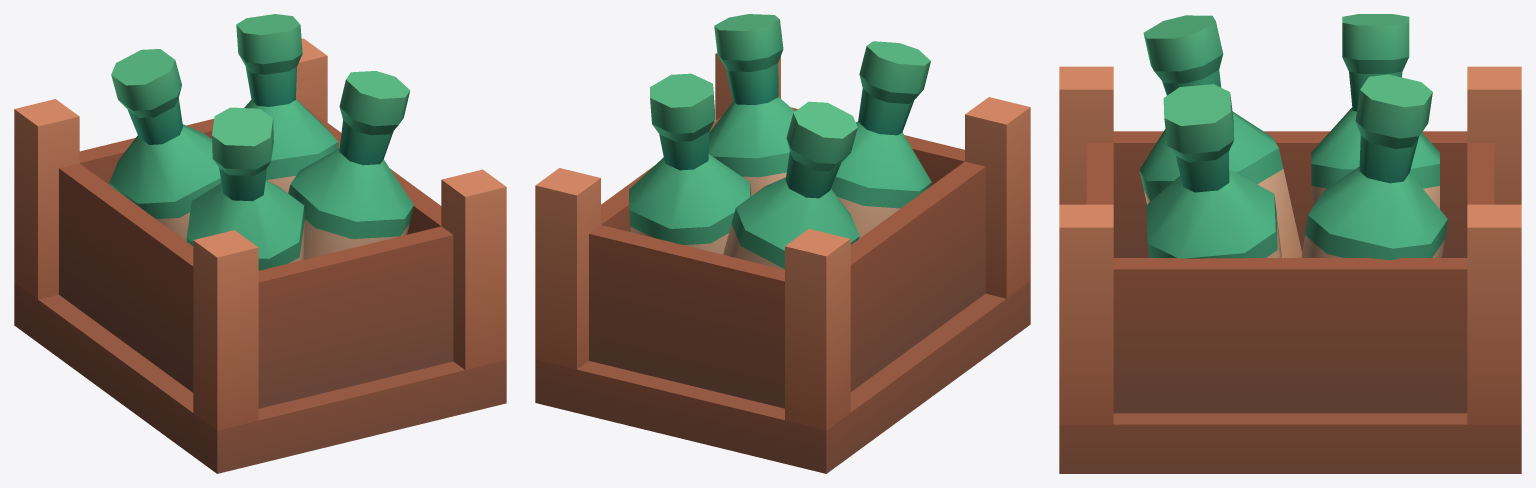
The model's file is crate_bottles.glb.
3 views of the same model, side by side, from view 1: azimuth 30°, elevation 25°; view 2: azimuth 150°, elevation 25°; view 3: azimuth 270°, elevation 25° (orthographic). The views are drawn at different scales.
Parts seen in each view (by area): view 1: crate-bottles; view 2: crate-bottles; view 3: crate-bottles.
Part boxes in pixels (x1=…): crate-bottles: x1=14, y1=14, x2=506, y2=473; crate-bottles: x1=535, y1=14, x2=1030, y2=473; crate-bottles: x1=1059, y1=14, x2=1521, y2=473.
Size of the model in its own units: 1.08 by 1.06 by 1.31.
1 material, 1 textured.
